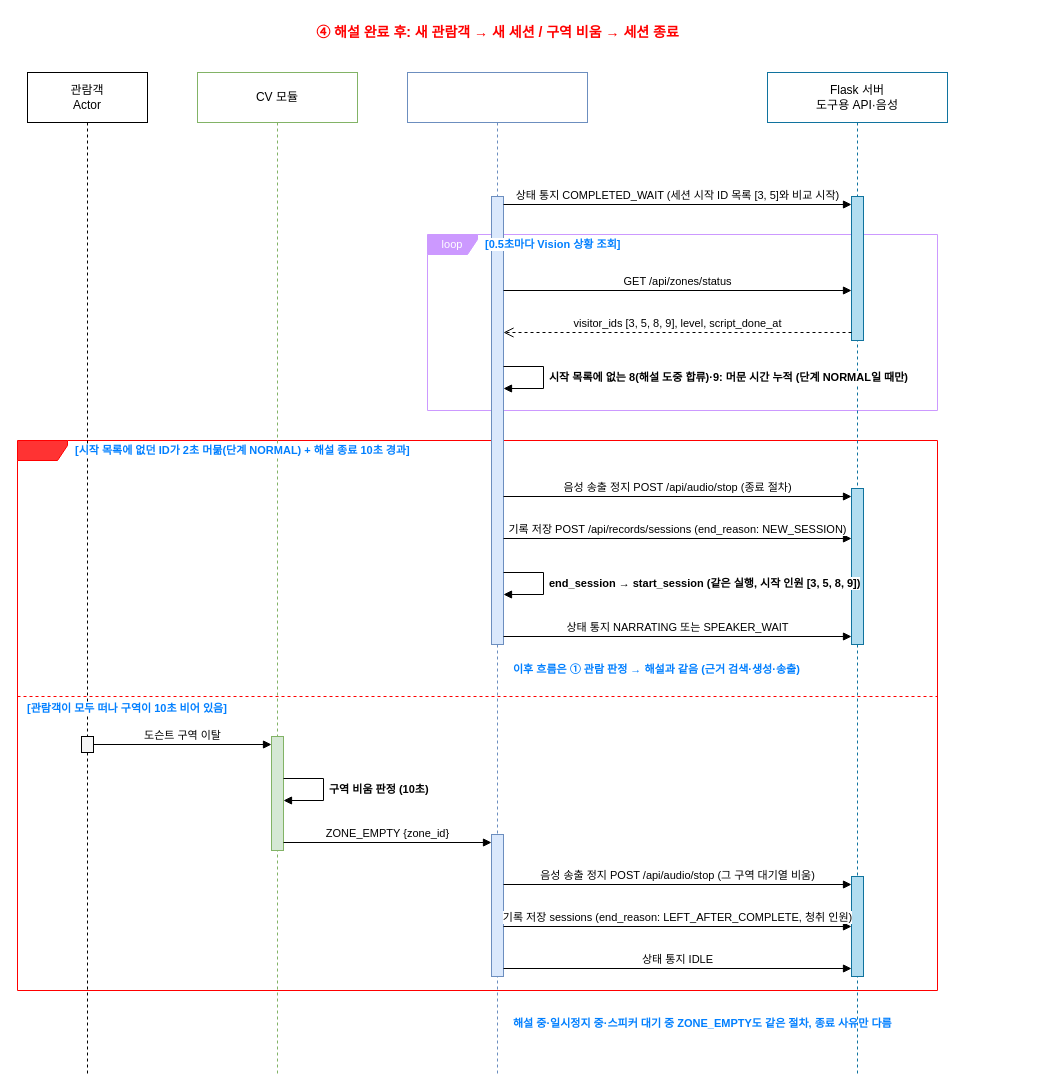
The diagram is 1049 pixels wide and 1092 high, and some of its shapes have lost their labels. The shapes that lost their labels are listed below. From the top down, each one's box as (x1, y1, x2, y2) in pixels, then its label:
(406, 72, 588, 1074): Agent LangGraph
(16, 440, 938, 990): alt
